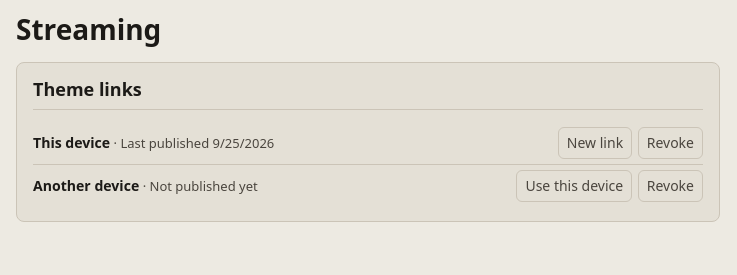
Test: the account's theme links › makes a new link for this device and says what that means for copied addresses
Click the button "New link".
click(595, 143)  # box [558,127,632,159]
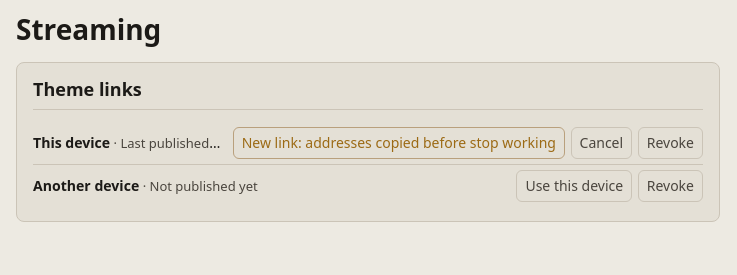
Click the button "New link: addresses copied before stop working".
click(399, 143)  # box [233,127,565,159]
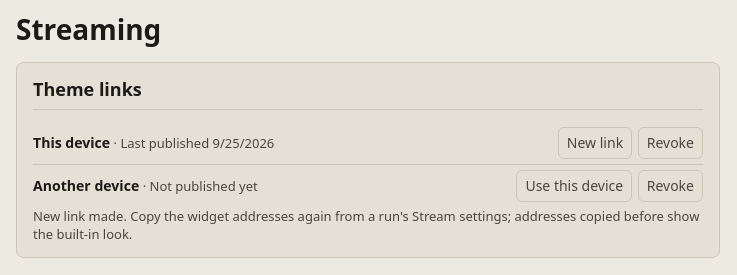
Expected: the text "New link made. Copy the widget addresses again" is shown, [33,207,699,243]
